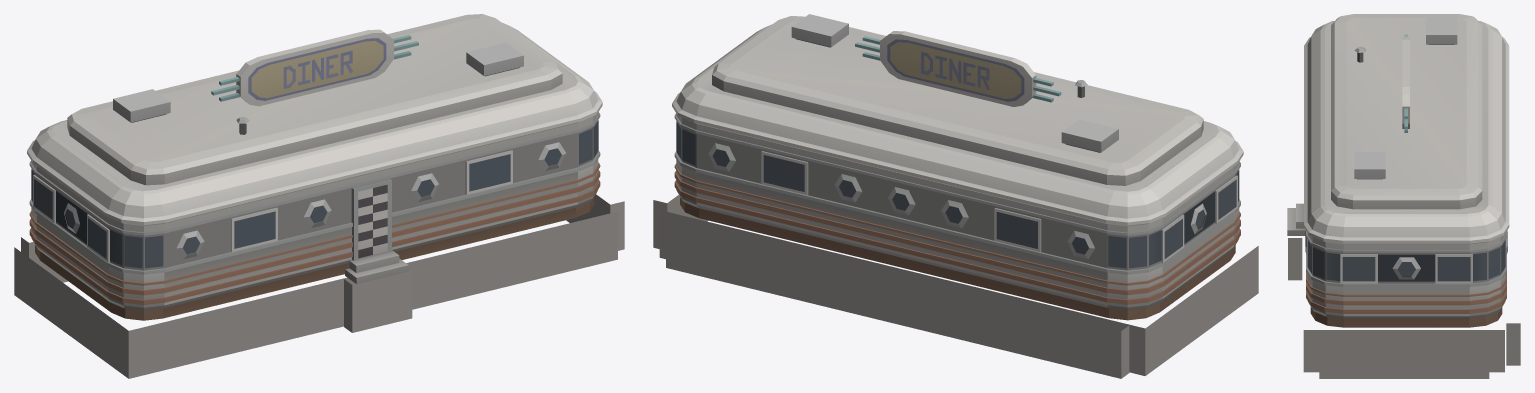
The model's file is diner.lod1.glb.
3 views of the same model, side by side, from view 1: azimuth 30°, elevation 25°; view 2: azimuth 150°, elevation 25°; view 3: azimuth 270°, elevation 25° (orthographic). The views are drawn at different scales.
Bounding box in the file's own units: 16.5 × 7.22 × 7.48.
